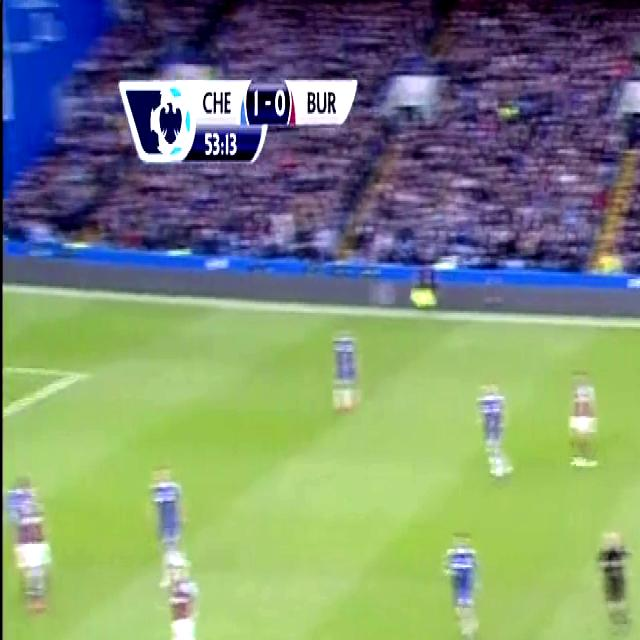referee: (590, 513, 636, 640)
soccer-player: (3, 455, 57, 621), (144, 447, 196, 591), (434, 514, 486, 640), (469, 360, 515, 490), (157, 549, 217, 640), (564, 351, 607, 477), (324, 312, 364, 428)
